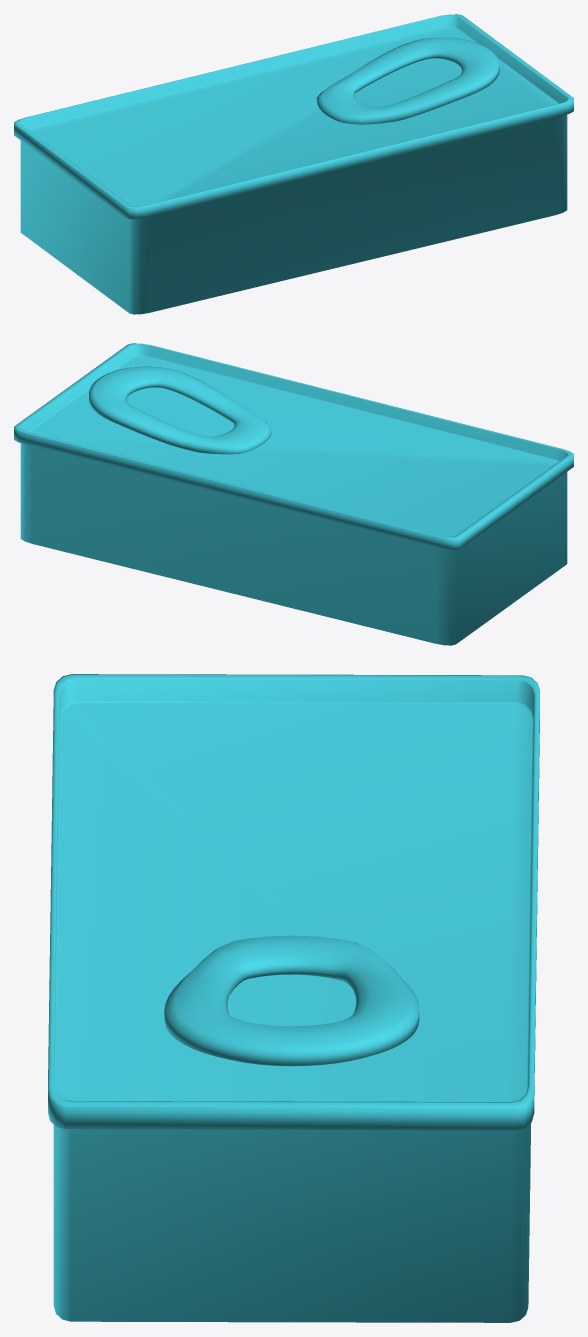
The model's file is Sardinha.fbx.
The picture shows the model from 3 angles, top to bottom: view 1: azimuth 30°, elevation 25°; view 2: azimuth 150°, elevation 25°; view 3: azimuth 270°, elevation 25°; orthographic projection. The views are drawn at different scales.
Parts seen in each view (by area): view 1: Cube.013; view 2: Cube.013; view 3: Cube.013.
Part boxes in pixels (x1,y1,x2,y2): Cube.013: (14,14,573,314); Cube.013: (14,343,573,645); Cube.013: (48,674,539,1322).
Size of the model in its own units: 499 by 134 by 237.
